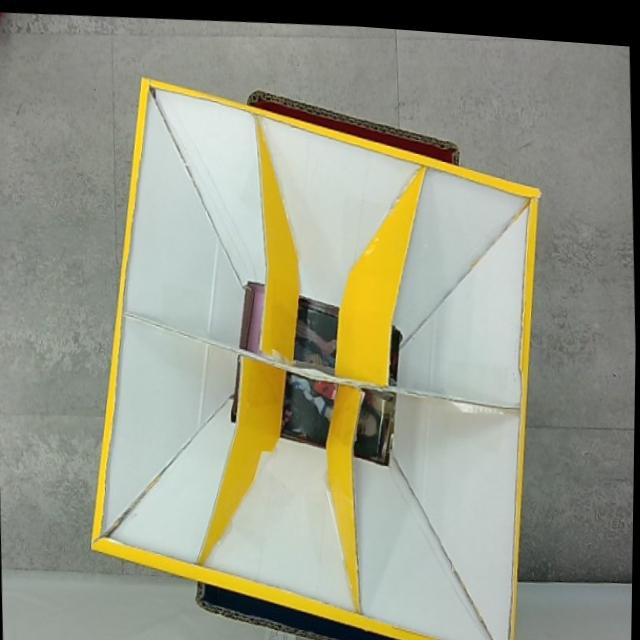box: (73, 54, 557, 640)
